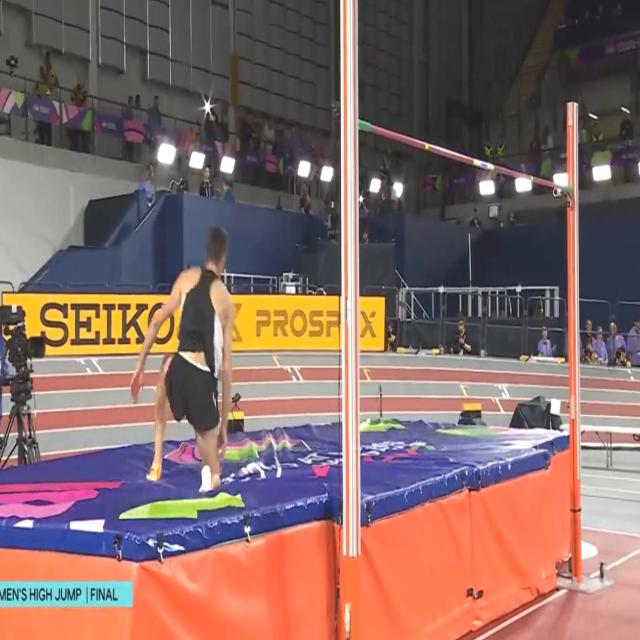land: (132, 225, 234, 495)
